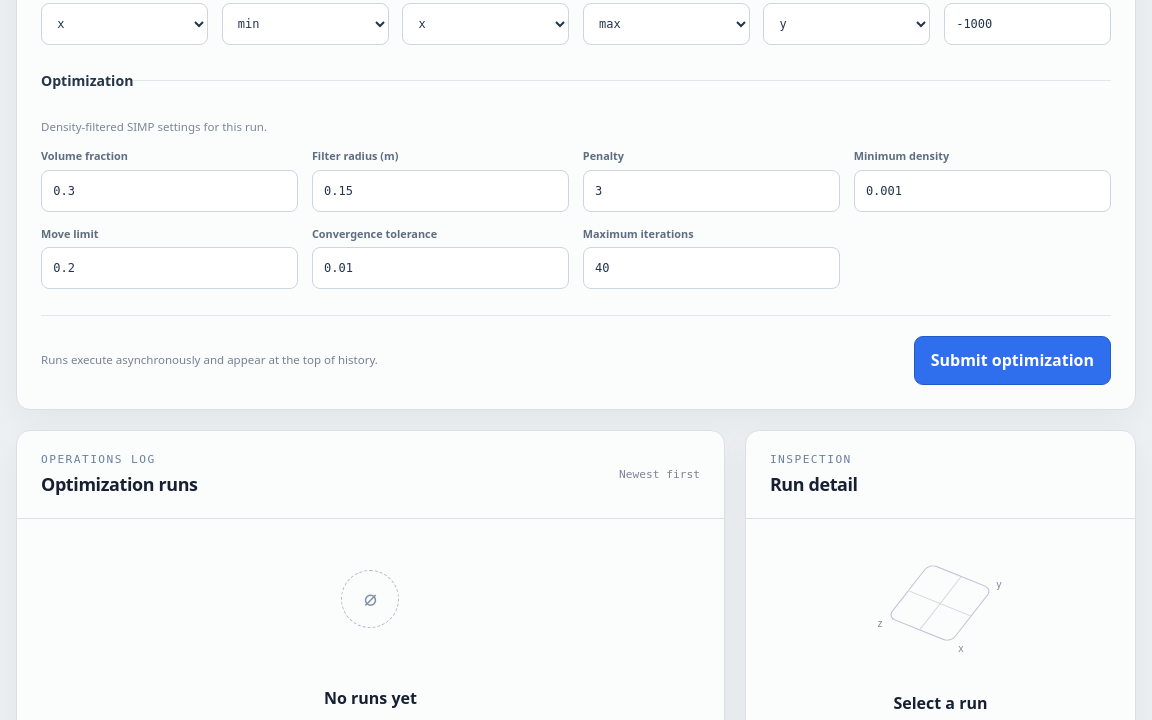
Test: App › keeps the form available after a submission error
(page scrolled)
Expected: the heading "No runs yet" is shown, [324,687,417,709]
Click the button "Submit optimization" at coordinates (1012, 360), box [914,336,1111,385]
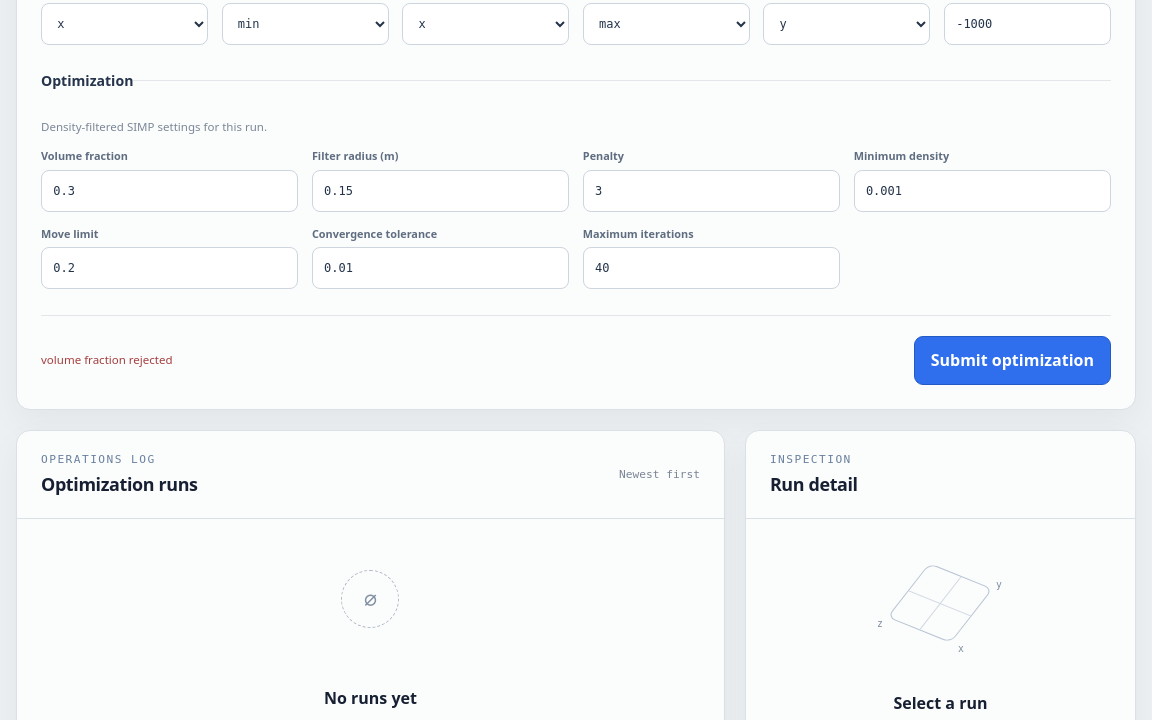
Expected: the number field labelled "Volume fraction" holds "0.3", [41,170,298,212]
Expected: the text "volume fraction rejected" is shown, [41,352,173,367]
